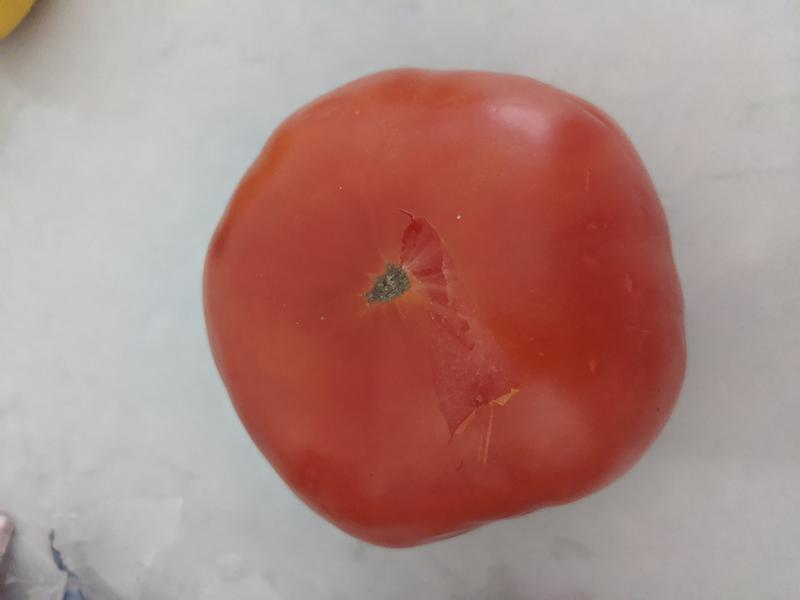tomato: (200, 68, 689, 549)
